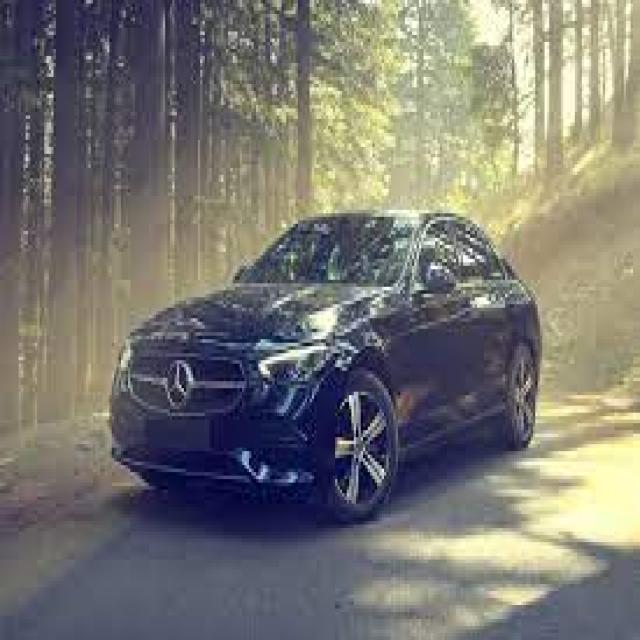Car: (100, 195, 550, 521)
